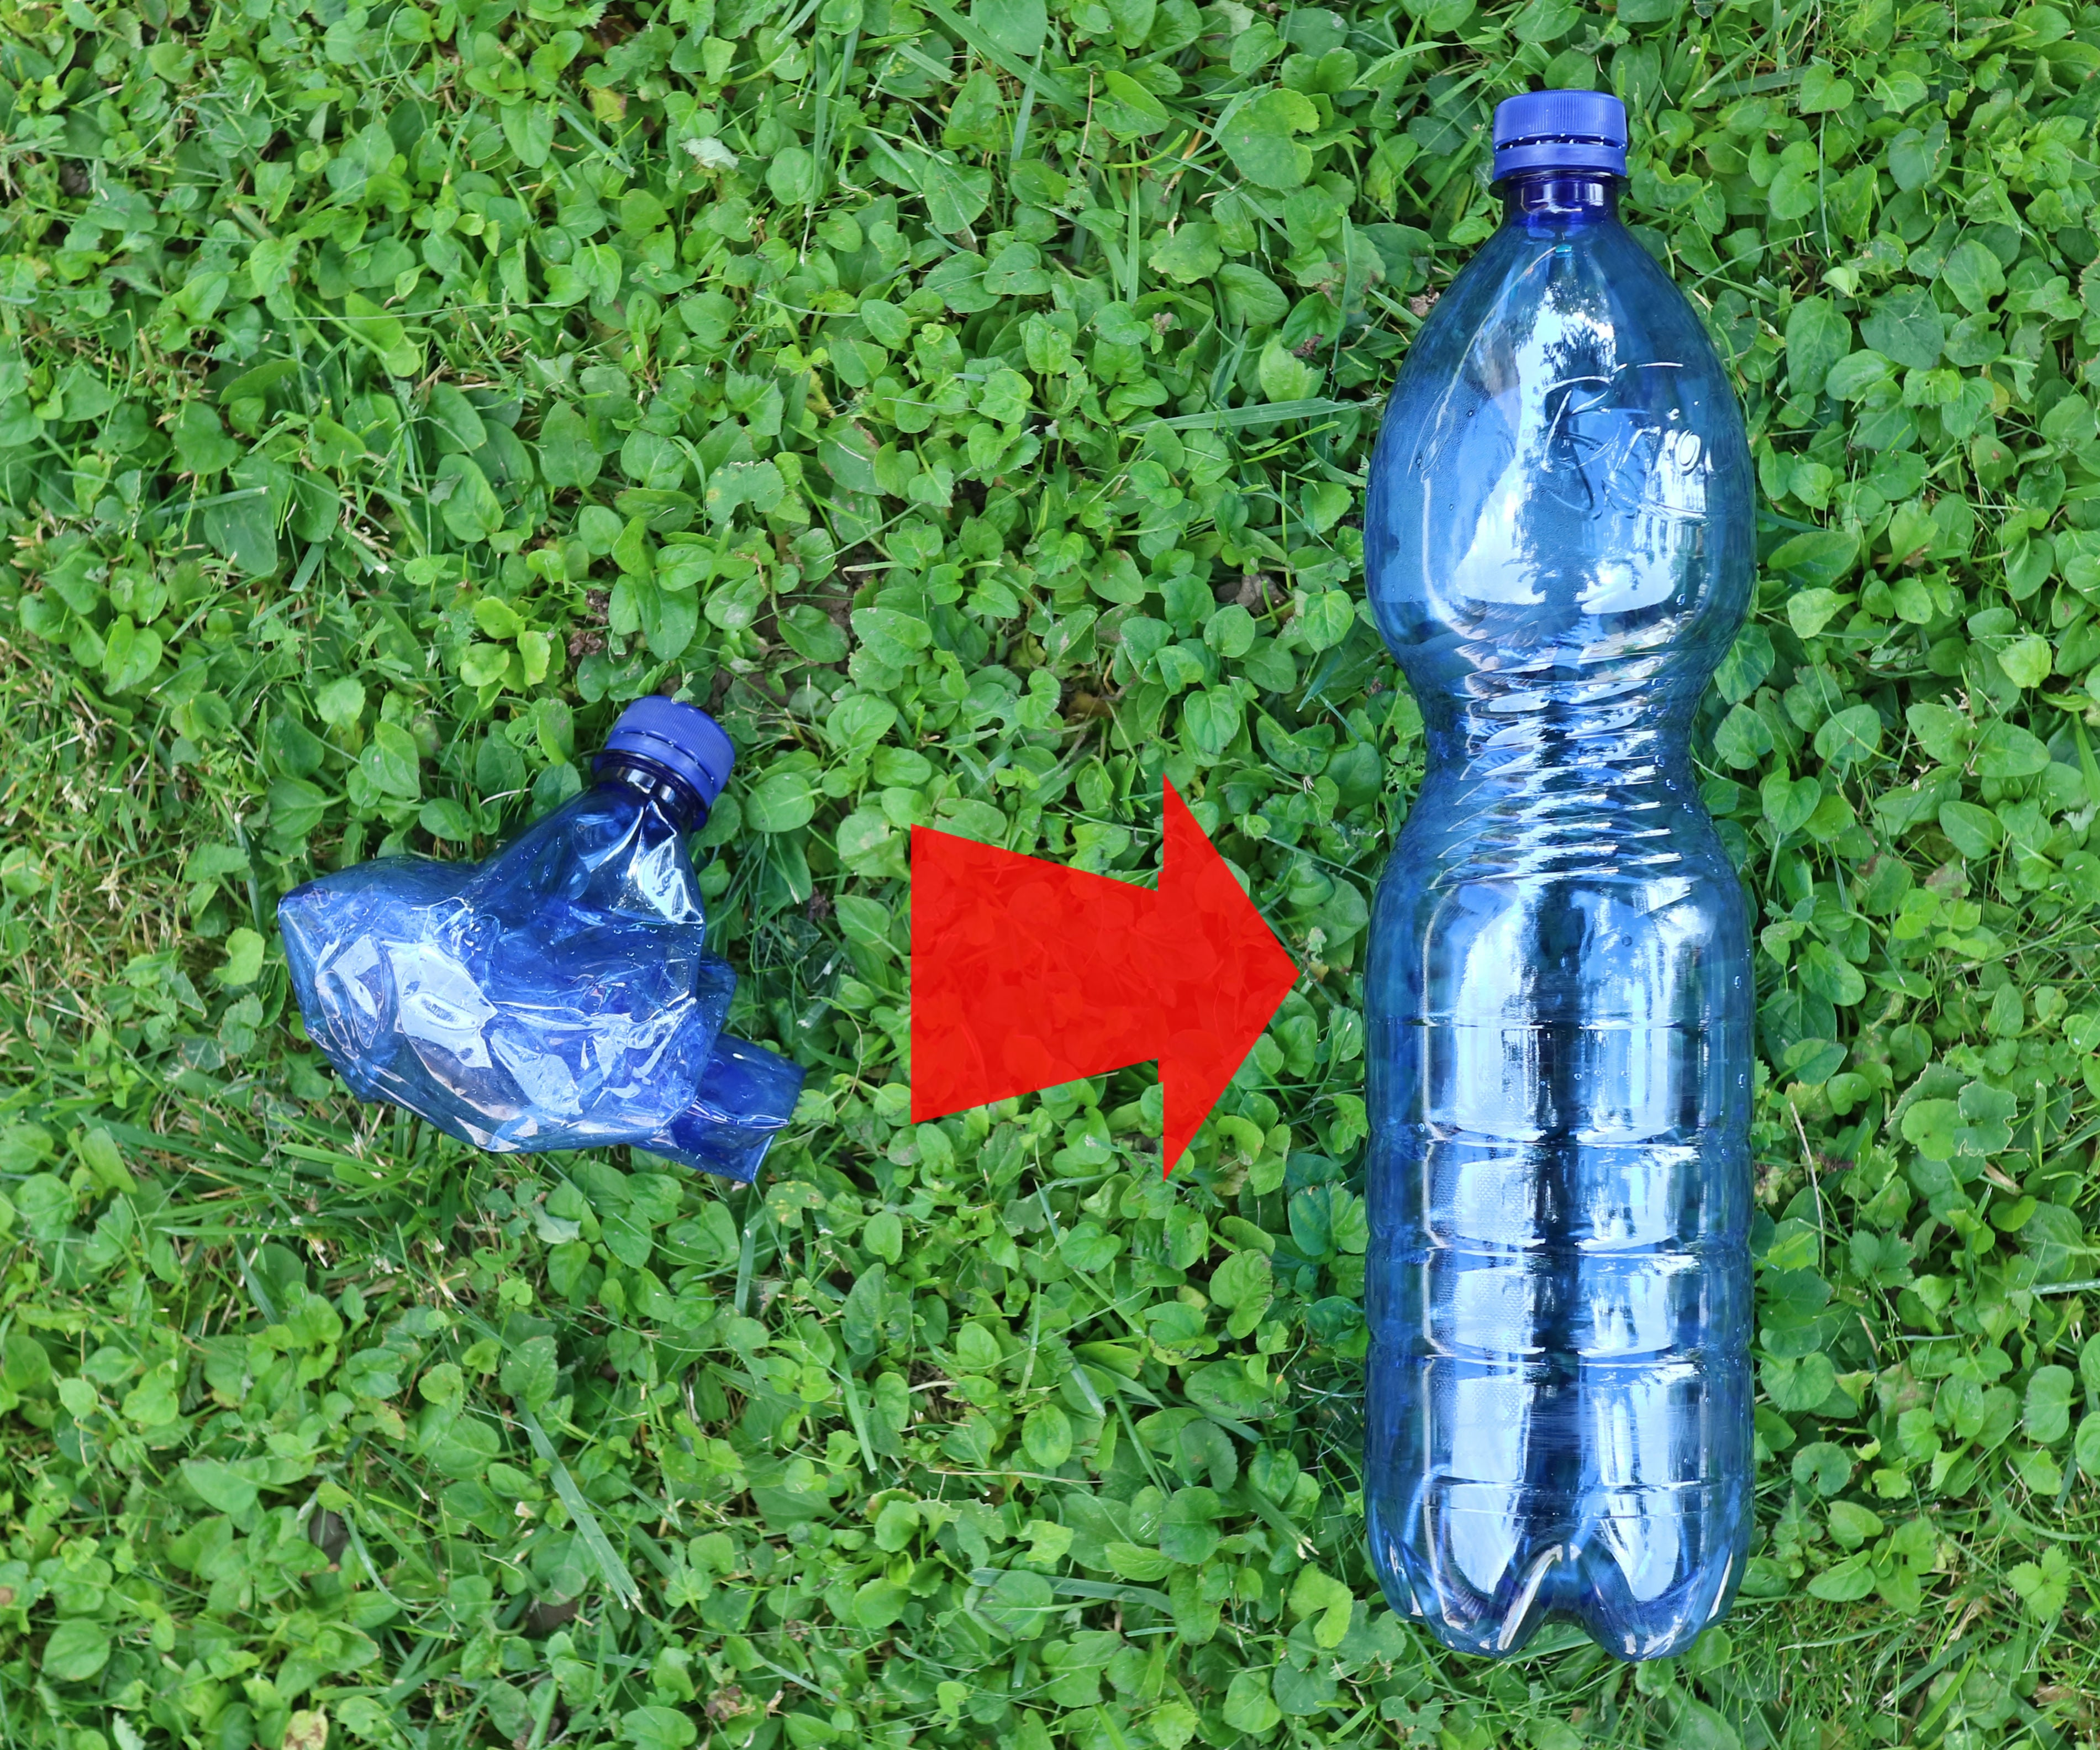plastic_bottle: (1343, 75, 1803, 1691), (272, 665, 827, 1209)
